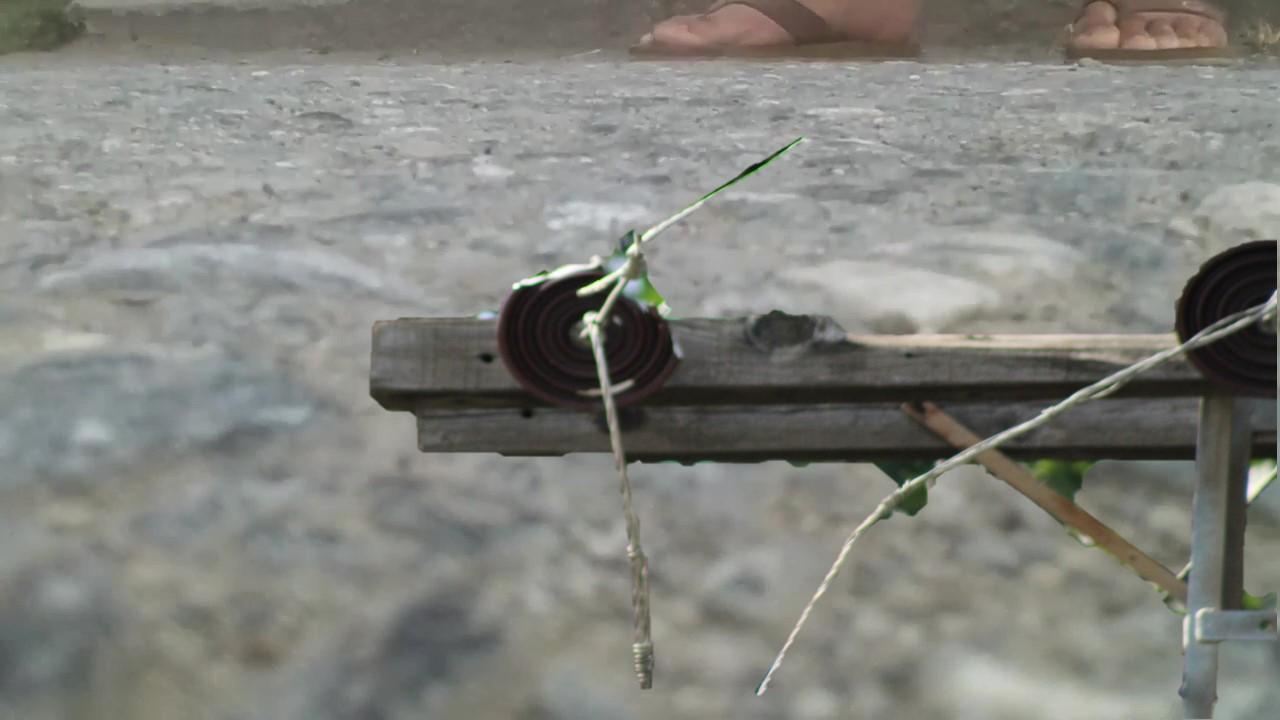defect_disc: (497, 255, 688, 420)
